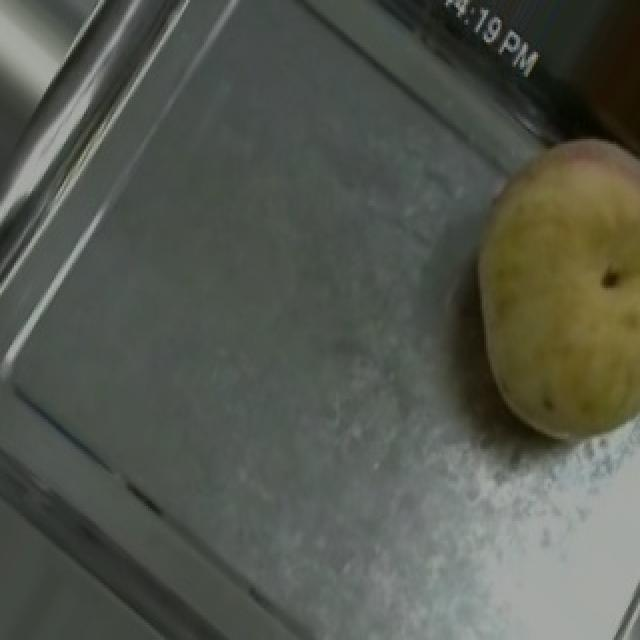Fruit: (424, 109, 640, 481)
